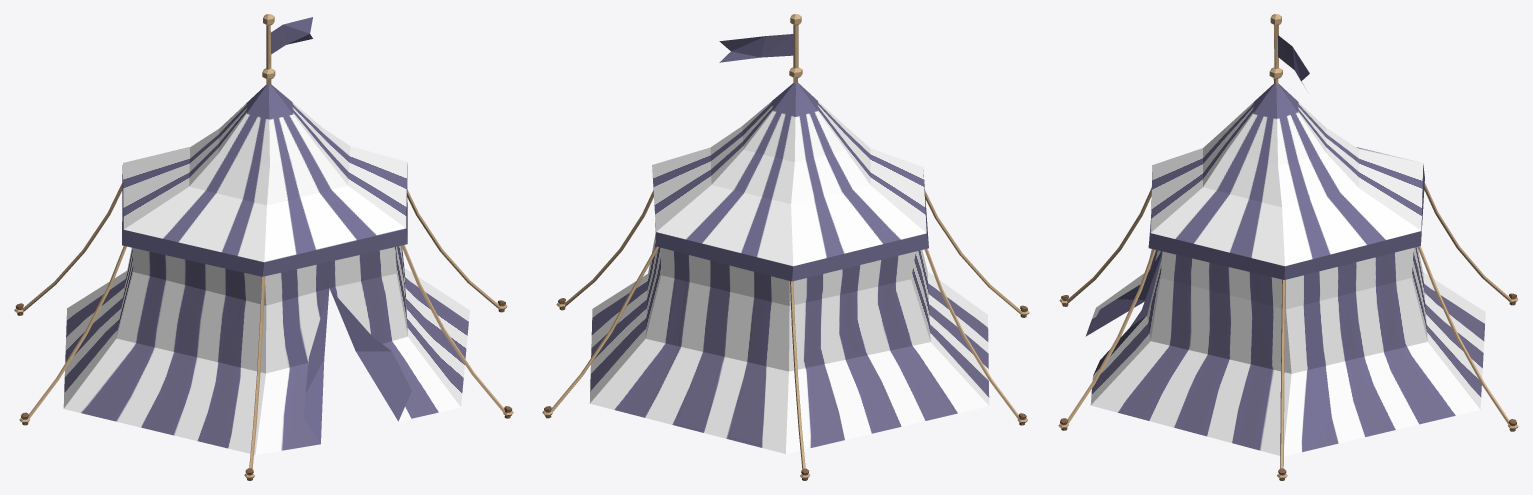
The model's file is tent_center.fbx.
3 views of the same model, side by side, from view 1: azimuth 30°, elevation 25°; view 2: azimuth 150°, elevation 25°; view 3: azimuth 270°, elevation 25° (orthographic). The views are drawn at different scales.
Parts seen in each view (by area): view 1: tent_pirple; view 2: tent_pirple; view 3: tent_pirple.
Part boxes in pixels (x1=…): tent_pirple: x1=14, y1=14, x2=513, y2=480; tent_pirple: x1=542, y1=14, x2=1029, y2=480; tent_pirple: x1=1058, y1=14, x2=1518, y2=480.
Bounding box in the file's own units: 1060 × 747 × 886.
